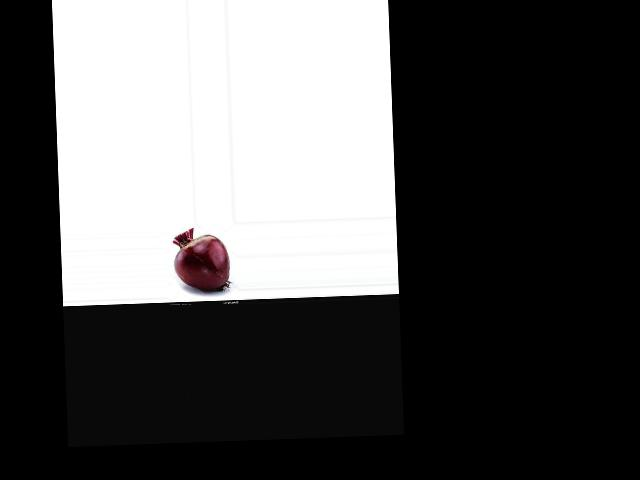beet: (172, 227, 230, 291)
